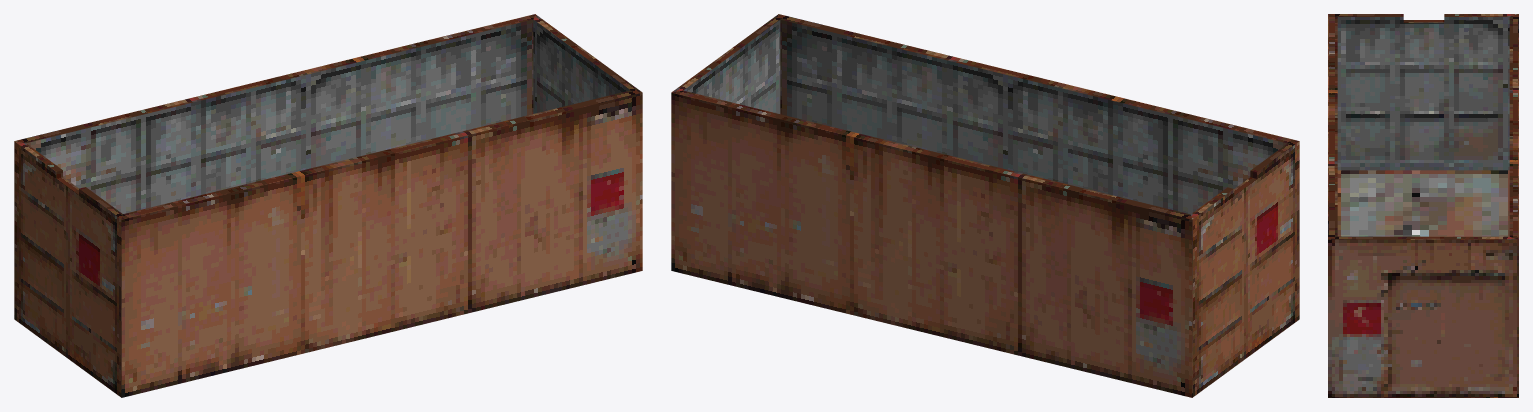
The model's file is cargo_2_empty.glb.
The picture shows the model from 3 angles, left to right: view 1: azimuth 30°, elevation 25°; view 2: azimuth 150°, elevation 25°; view 3: azimuth 270°, elevation 25°; orthographic projection. The views are drawn at different scales.
Visible parts, largest first — view 1: Cargo_2_empty; view 2: Cargo_2_empty; view 3: Cargo_2_empty.
Part boxes in pixels (left/top/right/bottom): Cargo_2_empty: left=14, top=14, right=642, bottom=397; Cargo_2_empty: left=671, top=14, right=1299, bottom=397; Cargo_2_empty: left=1328, top=14, right=1518, bottom=397.
Bounding box in the file's own units: 4.94 × 1.61 × 1.76.
1 material, 1 textured.
